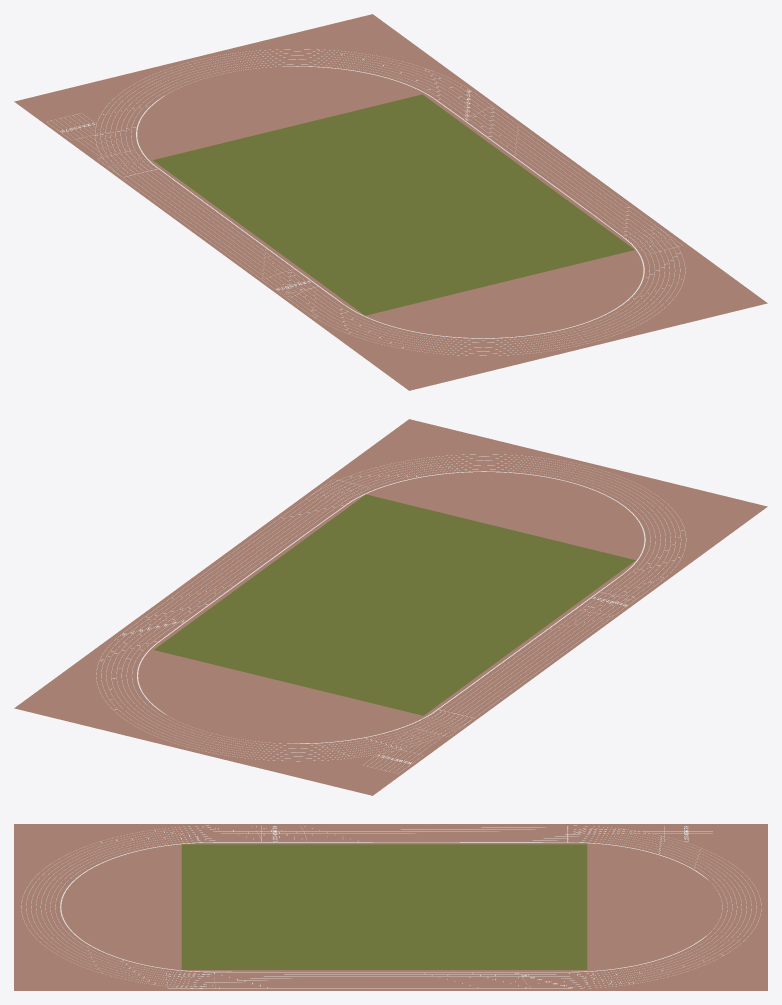
File: AthleticsTrack.fbx
3 views of the same model, one above another, from view 1: azimuth 30°, elevation 25°; view 2: azimuth 150°, elevation 25°; view 3: azimuth 270°, elevation 25° (orthographic). The views are drawn at different scales.
Visible parts, largest first — view 1: TrackPlane, TrackLines; view 2: TrackPlane, TrackLines; view 3: TrackPlane, TrackLines.
Part boxes in pixels (x1,y1,x2,y2): TrackPlane: [14, 14, 767, 390]; TrackLines: [47, 49, 685, 355]; TrackPlane: [14, 419, 767, 795]; TrackLines: [96, 454, 686, 773]; TrackPlane: [14, 824, 767, 990]; TrackLines: [21, 825, 761, 988].
Size of the model in its own units: 9396 by 3.02 by 17930.
